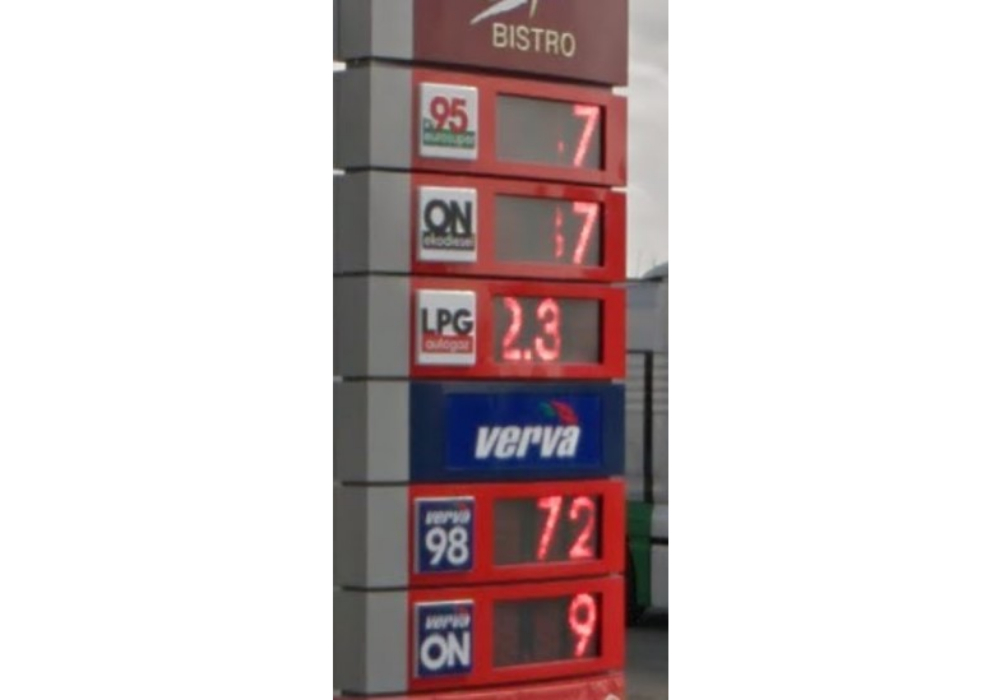LPG: (409, 282, 481, 368)
ON: (406, 593, 478, 683), (416, 181, 479, 264)
PB95: (414, 76, 481, 164)
PB98: (414, 492, 475, 576)
